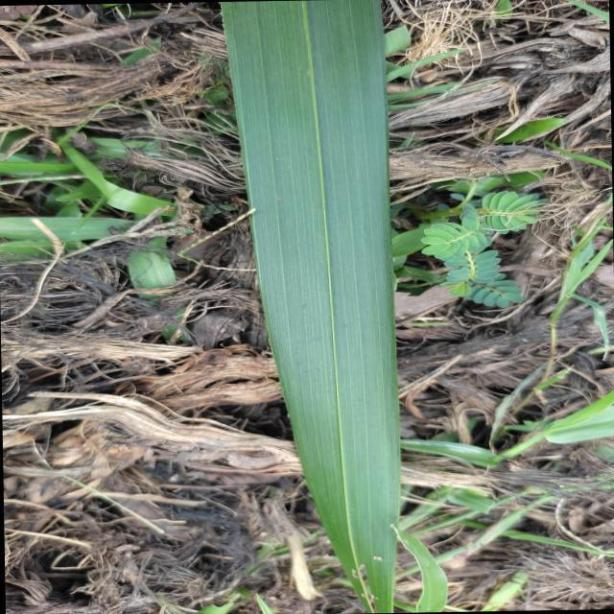Boron: (224, 0, 401, 614)
